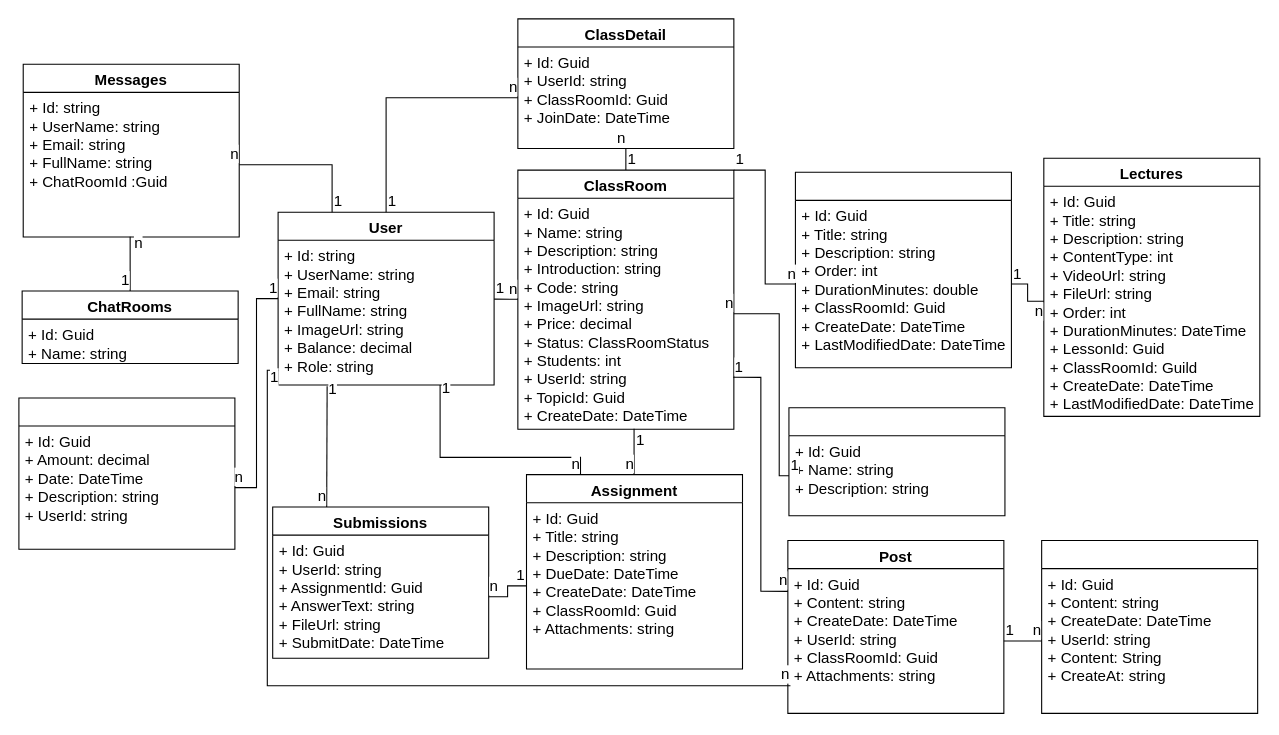
This 1279x735 diagram has some shape labels left out. The shapes that lost their labels are listed below. From the top down, each one's box as (x1, y1, x2, y2) in pixels, then its label:
(794, 171, 1011, 368): Lesson
(18, 397, 235, 549): Transaction
(788, 407, 1005, 516): Topic
(1041, 539, 1258, 713): Comments
